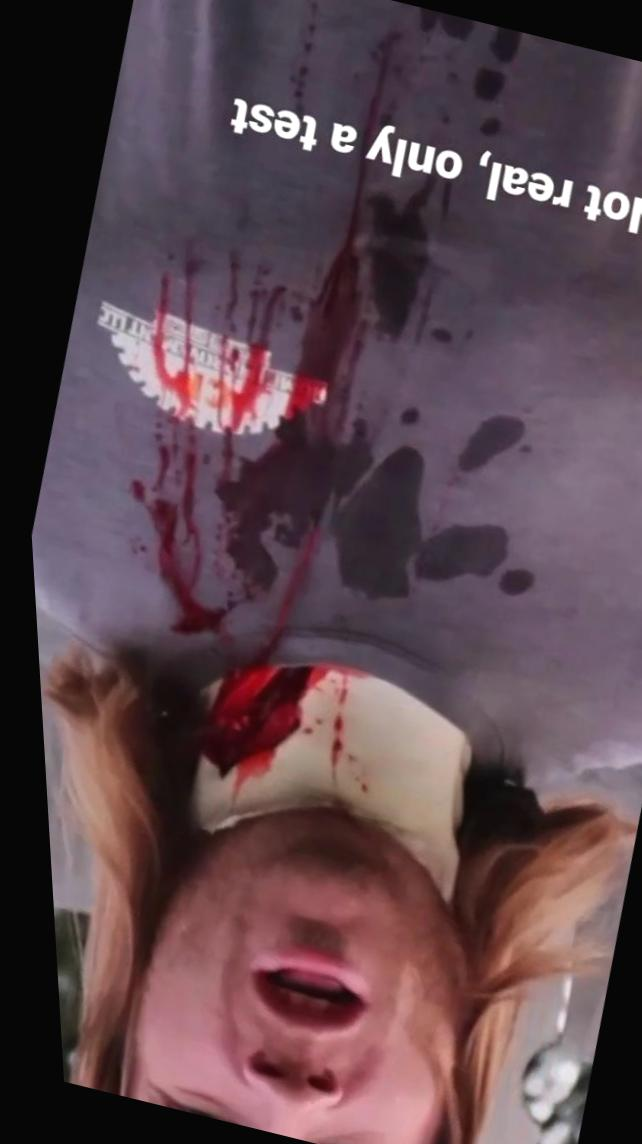Fire: (123, 141, 453, 663), (191, 665, 421, 831), (279, 0, 419, 161)
